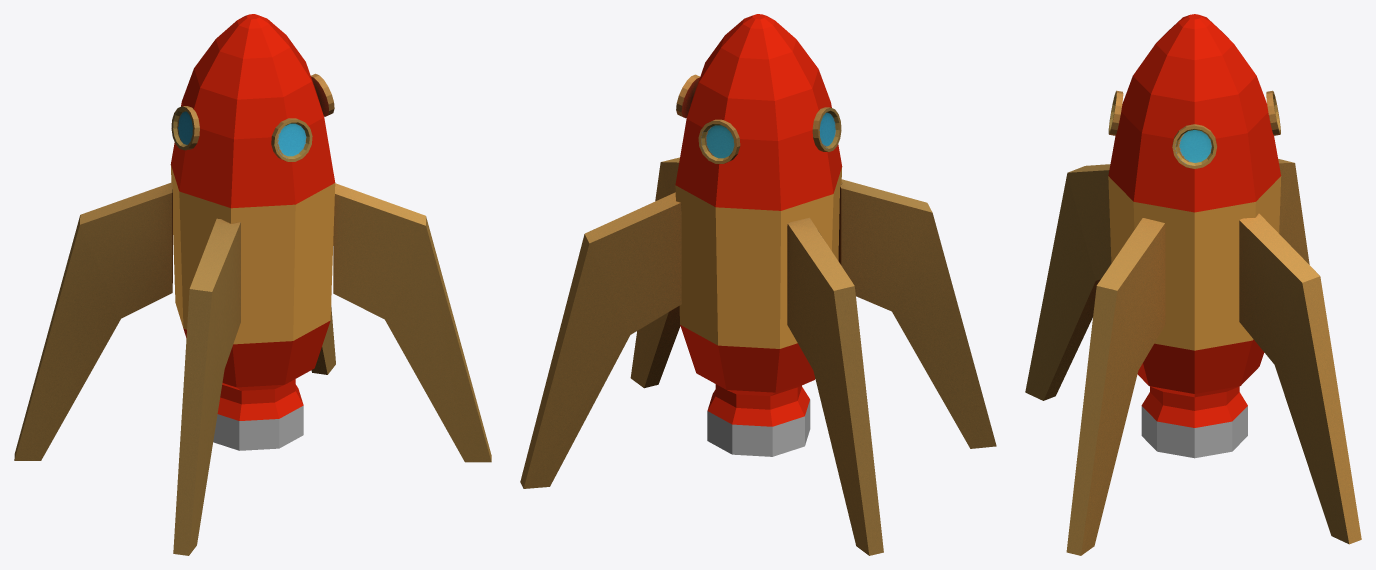
Rendered from rocket.glb.
The picture shows the model from 3 angles, left to right: view 1: azimuth 30°, elevation 25°; view 2: azimuth 150°, elevation 25°; view 3: azimuth 270°, elevation 25°; orthographic projection.
Visible parts, largest first — view 1: rocket, body; view 2: rocket, body; view 3: rocket, body.
Part boxes in pixels (x1,y1,x2,y2): rocket: [14, 73, 491, 555]; body: [170, 14, 335, 450]; rocket: [520, 74, 996, 555]; body: [675, 14, 842, 456]; rocket: [1025, 90, 1361, 555]; body: [1108, 14, 1281, 458].
Bounding box in the file's own units: 0.493 × 0.5732 × 0.3895.
Materials: 4 (1 with a texture image).
